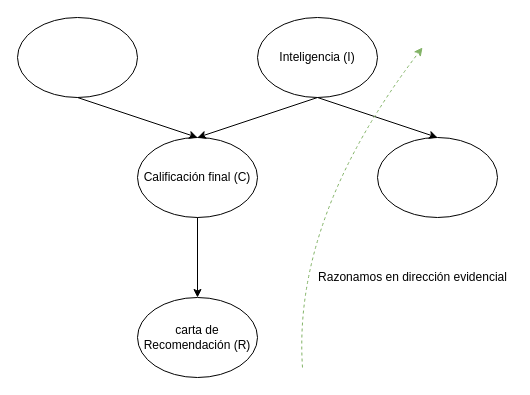
This 530x395 diagram has some shape labels left out. The box of each missing label's shape, as (x1, y1, x2, y2) in pixels:
Dificultad (D): (16, 16, 138, 98)
puntaje Prueba estatal (P): (376, 136, 498, 218)
